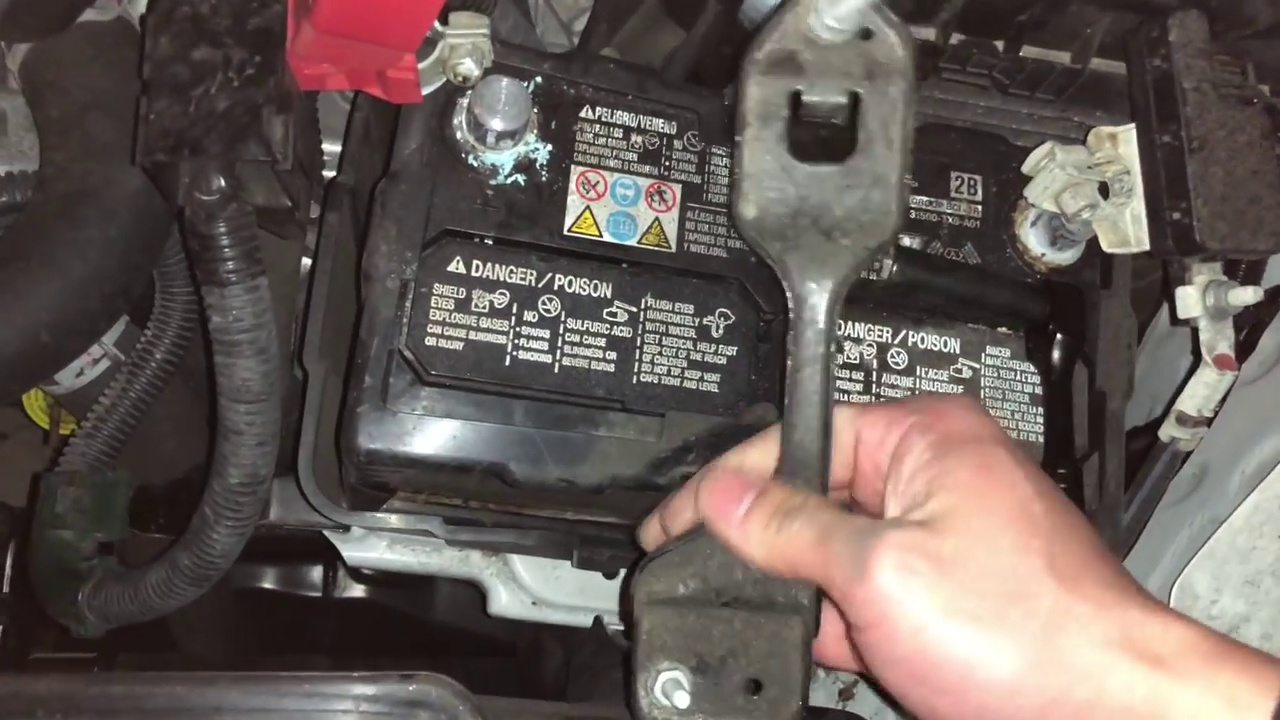battery: (319, 15, 1148, 563)
neg_disconnected: (1016, 107, 1157, 295)
pos_disconnected: (291, 4, 575, 194)
